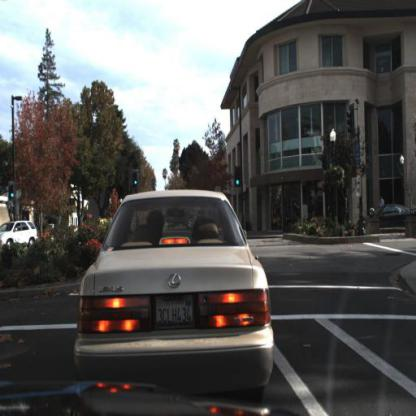car: (87, 188, 263, 384), (366, 201, 416, 234), (1, 217, 39, 250), (1, 221, 39, 252)
pedestrian: (376, 193, 387, 215), (379, 197, 386, 210)
trafficLight: (233, 165, 242, 191), (130, 171, 138, 189)
trafficLight-Green: (9, 181, 17, 200)
